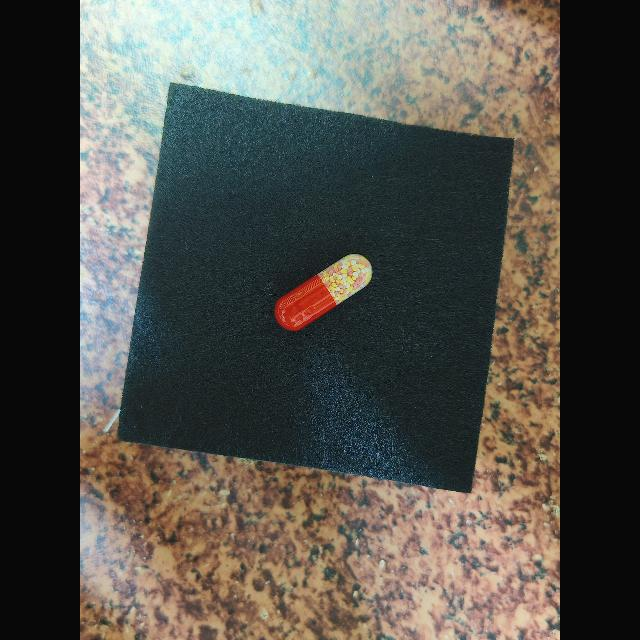Intact Capsule: (275, 254, 373, 331)
